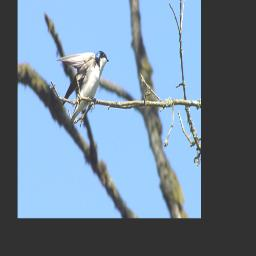Swallow: (56, 49, 109, 129)
